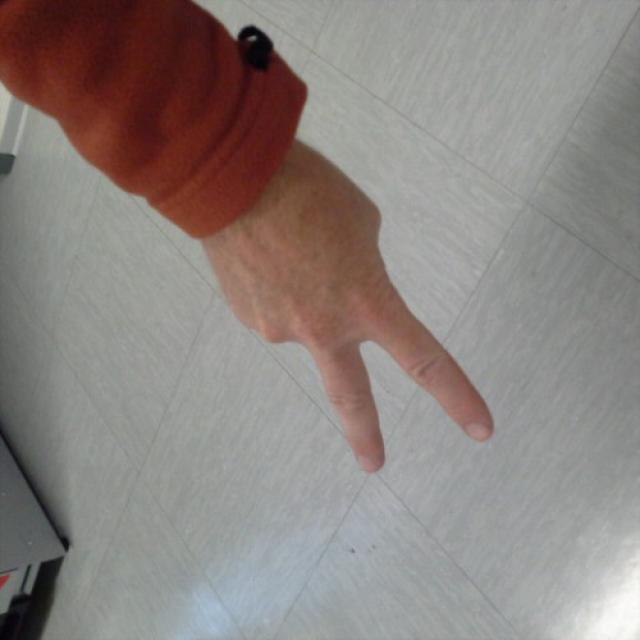scissors: (210, 182, 497, 470)
